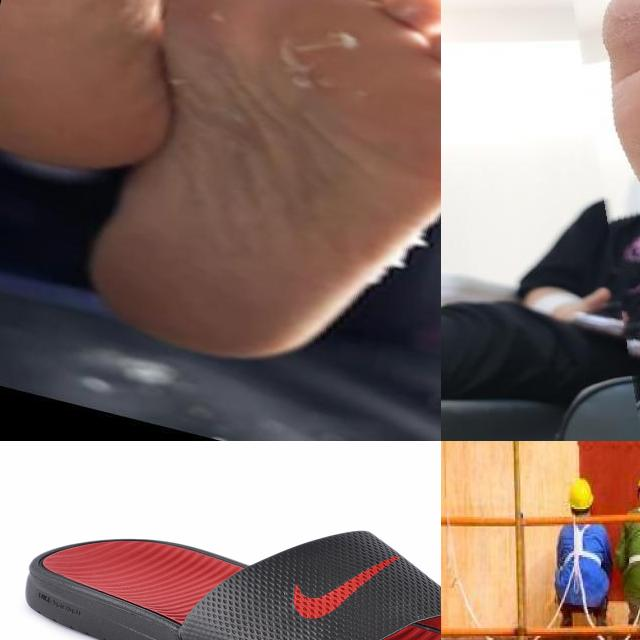Barefoots: (67, 0, 441, 421), (586, 0, 640, 441)
Harness: (561, 523, 601, 608)
Sandals: (21, 528, 441, 640)
